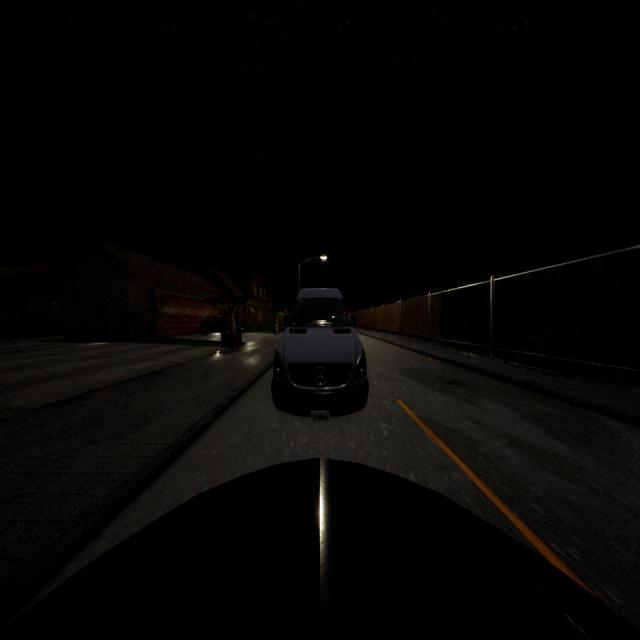Vehicle: (0, 454, 640, 640), (271, 288, 369, 414)
traffic_light: (344, 310, 346, 316)
